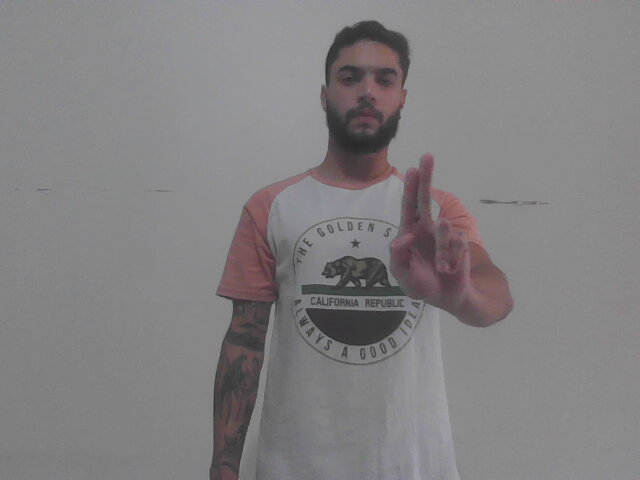u: (387, 148, 475, 316)
